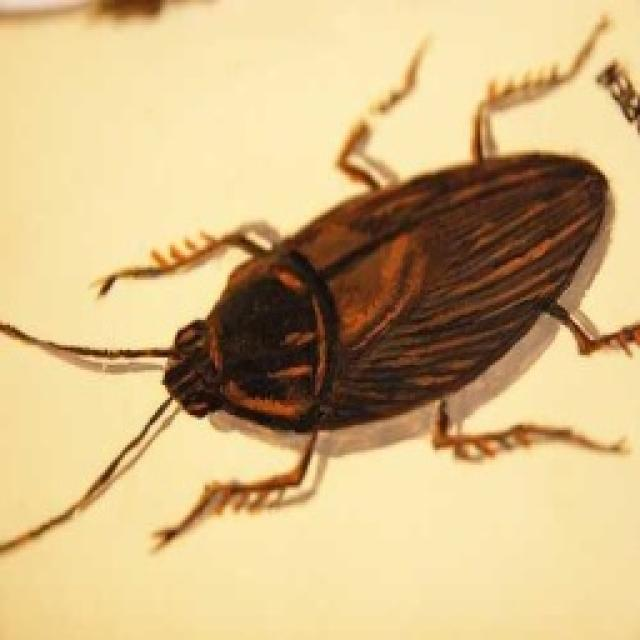cockroach: (2, 15, 637, 558)
